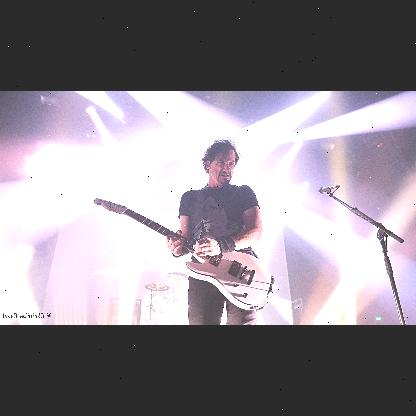guitar: (93, 198, 272, 312)
